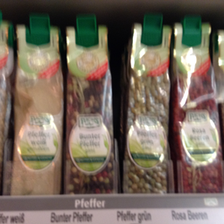spices: (120, 23, 173, 193), (11, 24, 63, 194), (173, 22, 224, 191), (65, 26, 116, 193)
